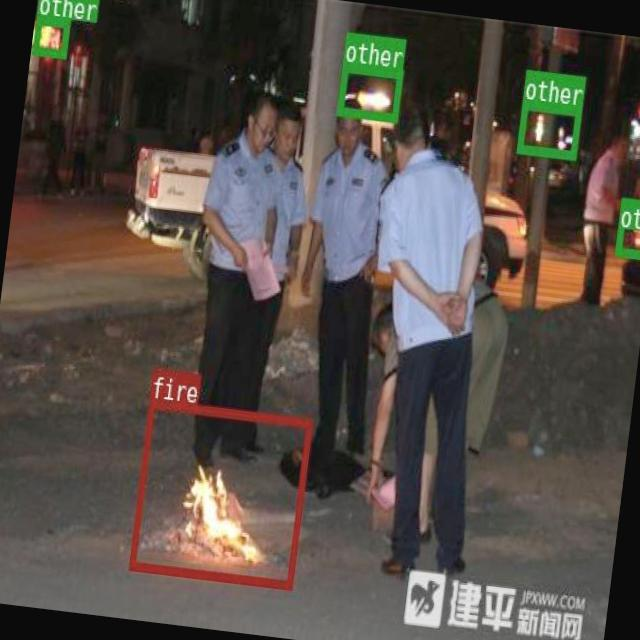fire: (128, 398, 312, 588)
